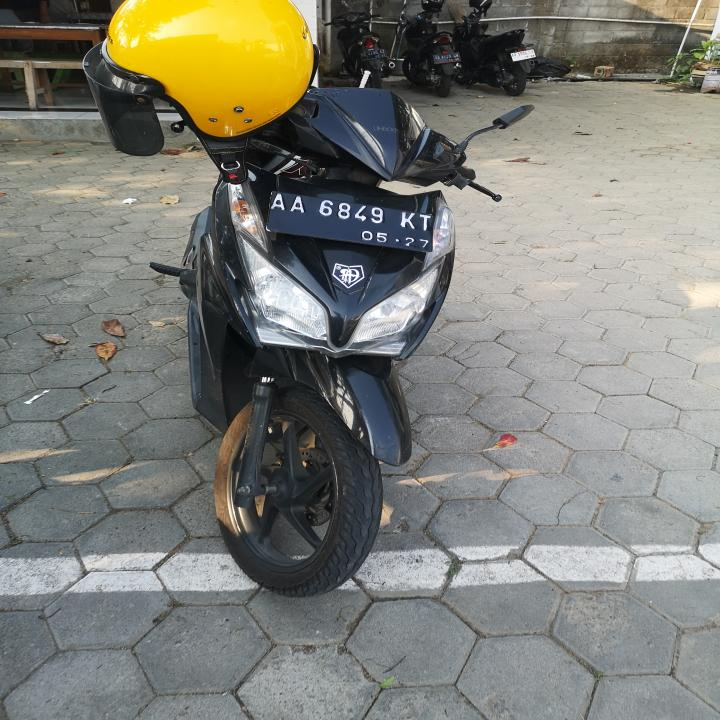plate: (267, 187, 438, 255)
